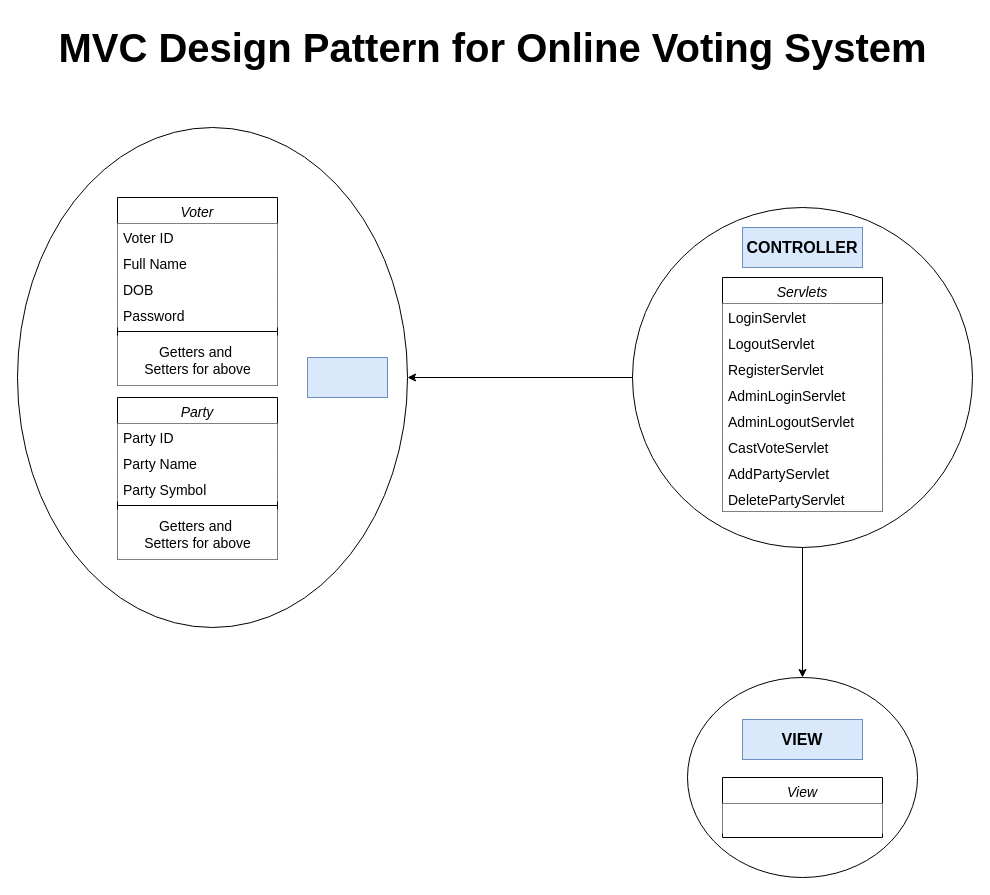
Some shapes in this 990 by 895 pixel diagram are drawn without their labels. The centre of each missing label's shape, as x and y in pixels:
"All JSP files" belongs at [802,818].
"MODEL" belongs at [347,377].
